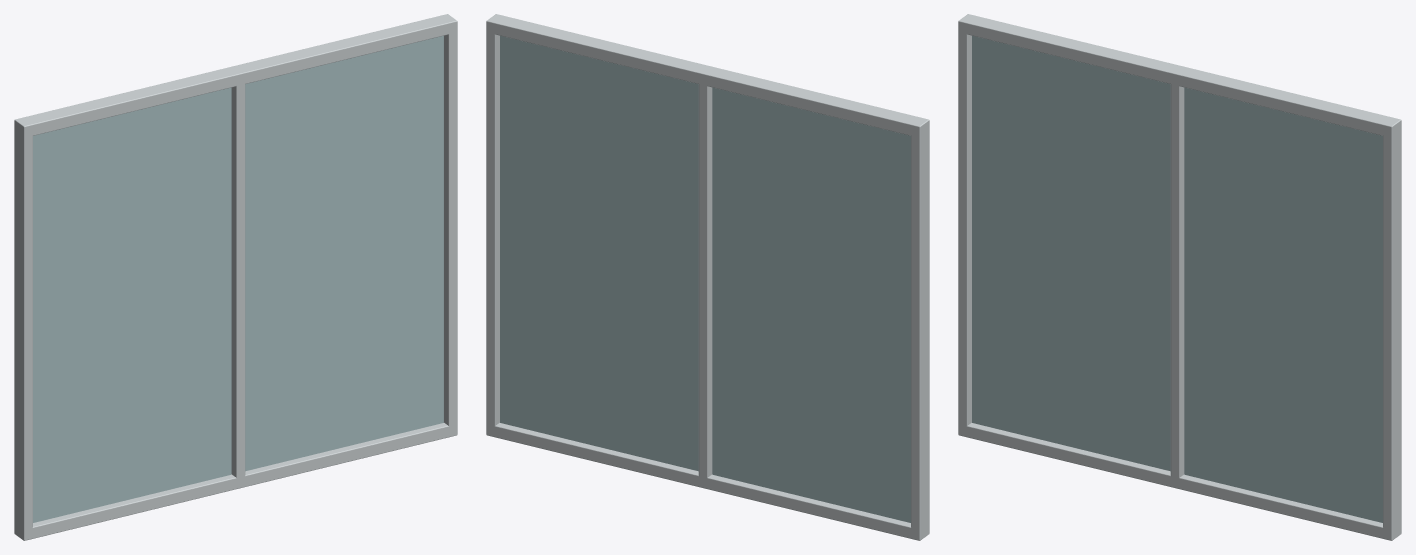
The model's file is terminal-window-module.glb.
3 views of the same model, side by side, from view 1: azimuth 30°, elevation 25°; view 2: azimuth 150°, elevation 25°; view 3: azimuth 330°, elevation 25° (orthographic).
Visible parts, largest first — view 1: GlassPane-0.75, GlassPane0.75, Transom2.76, Mullion-1.5, Transom0.04, Mullion0, Mullion1.5; view 2: GlassPane-0.75, GlassPane0.75, Transom2.76, Mullion-1.5, Transom0.04, Mullion0, Mullion1.5; view 3: GlassPane-0.75, GlassPane0.75, Transom2.76, Mullion1.5, Transom0.04, Mullion0, Mullion-1.5.
Part boxes in pixels (x1,y1,x2,y2): GlassPane-0.75: [33, 87, 231, 522]; GlassPane0.75: [245, 35, 443, 471]; Transom2.76: [16, 14, 456, 137]; Mullion-1.5: [14, 117, 32, 540]; Transom0.04: [25, 423, 456, 538]; Mullion0: [231, 66, 245, 488]; Mullion1.5: [444, 14, 457, 436]; GlassPane-0.75: [712, 87, 910, 522]; GlassPane0.75: [500, 35, 698, 471]; Transom2.76: [487, 14, 927, 136]; Mullion-1.5: [911, 117, 929, 540]; Transom0.04: [487, 423, 914, 538]; Mullion0: [698, 66, 712, 488]; Mullion1.5: [486, 14, 499, 436]; GlassPane-0.75: [972, 35, 1170, 471]; GlassPane0.75: [1184, 87, 1382, 522]; Transom2.76: [959, 14, 1399, 136]; Mullion1.5: [1383, 117, 1401, 540]; Transom0.04: [959, 423, 1386, 538]; Mullion0: [1170, 66, 1184, 488]; Mullion-1.5: [958, 14, 971, 436].
Bounding box in the file's own units: 3.06 × 2.8 × 0.12.
